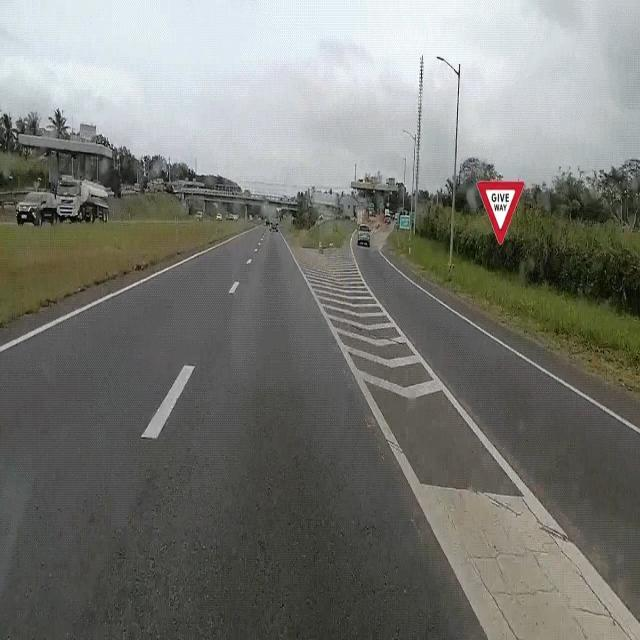Ceder-le-Passage: (472, 169, 528, 255)
